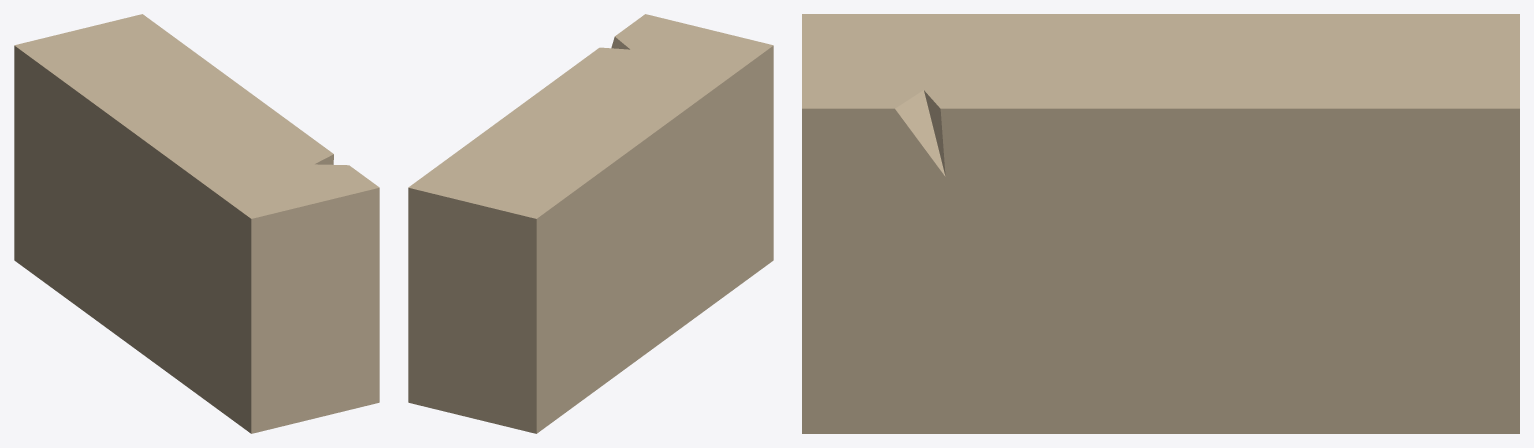
File: LightStoneDecorationLargeAztecStoneSlab1.fbx
The picture shows the model from 3 angles, left to right: view 1: azimuth 30°, elevation 25°; view 2: azimuth 150°, elevation 25°; view 3: azimuth 270°, elevation 25°; orthographic projection. The views are drawn at different scales.
Parts seen in each view (by area): view 1: LightStoneDecorationLargeAztecStoneSlab1; view 2: LightStoneDecorationLargeAztecStoneSlab1; view 3: LightStoneDecorationLargeAztecStoneSlab1.
Part boxes in pixels (bbox=[...]): LightStoneDecorationLargeAztecStoneSlab1: bbox=[14, 14, 379, 433]; LightStoneDecorationLargeAztecStoneSlab1: bbox=[408, 14, 773, 433]; LightStoneDecorationLargeAztecStoneSlab1: bbox=[802, 14, 1519, 433].
Bounding box in the file's own units: 250 × 400 × 800.
